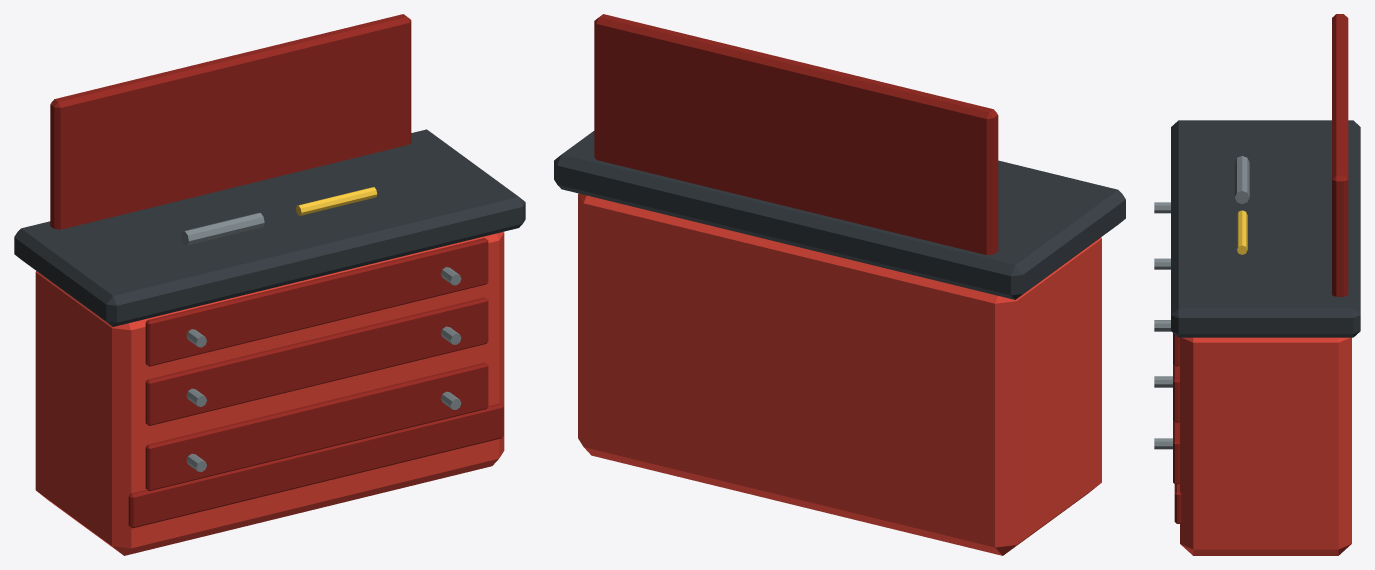
Rendered from RedWorkbench.glb.
The picture shows the model from 3 angles, left to right: view 1: azimuth 30°, elevation 25°; view 2: azimuth 150°, elevation 25°; view 3: azimuth 270°, elevation 25°; orthographic projection. The views are drawn at different scales.
Visible parts, largest first — view 1: WorkbenchCabinet, WorkbenchBackboard, WorkbenchTop, ToolDrawer_2, ToolDrawer_0, ToolDrawer_1, WorkbenchLowerSkirt, TopWrench, TopScrewdriver; view 2: WorkbenchCabinet, WorkbenchBackboard, WorkbenchTop; view 3: WorkbenchCabinet, WorkbenchTop, WorkbenchBackboard, TopWrench, TopScrewdriver, ToolDrawer_0, ToolDrawer_1, WorkbenchLowerSkirt.
Part boxes in pixels (left/top/right/bottom): WorkbenchCabinet: left=35, top=232, right=504, bottom=555; WorkbenchBackboard: left=50, top=14, right=411, bottom=229; WorkbenchTop: left=14, top=129, right=525, bottom=326; ToolDrawer_2: left=145, top=238, right=488, bottom=366; ToolDrawer_0: left=145, top=362, right=488, bottom=491; ToolDrawer_1: left=145, top=297, right=488, bottom=425; WorkbenchLowerSkirt: left=128, top=403, right=503, bottom=528; TopWrench: left=181, top=213, right=264, bottom=245; TopScrewdriver: left=296, top=187, right=377, bottom=215; WorkbenchCabinet: left=578, top=193, right=1101, bottom=555; WorkbenchBackboard: left=594, top=14, right=998, bottom=255; WorkbenchTop: left=554, top=131, right=1125, bottom=299; WorkbenchCabinet: left=1180, top=337, right=1351, bottom=555; WorkbenchTop: left=1171, top=120, right=1360, bottom=337; WorkbenchBackboard: left=1332, top=14, right=1348, bottom=296; TopWrench: left=1234, top=156, right=1249, bottom=204; TopScrewdriver: left=1237, top=210, right=1247, bottom=254; ToolDrawer_0: left=1173, top=421, right=1179, bottom=484; ToolDrawer_1: left=1173, top=364, right=1179, bottom=422; WorkbenchLowerSkirt: left=1174, top=483, right=1181, bottom=523.
Bounding box in the file's own units: 1.55 × 1.4 × 0.697.
